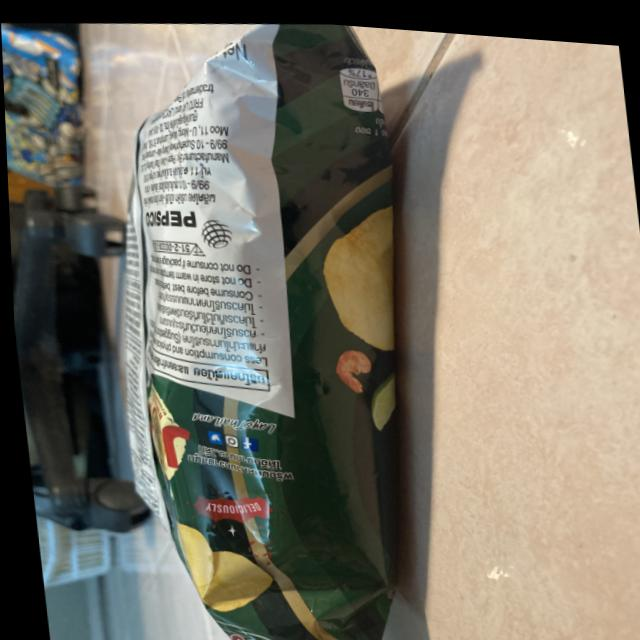Laygreen: (60, 3, 462, 640)
